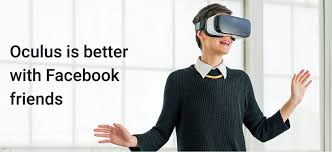oculus: (203, 15, 255, 41)
